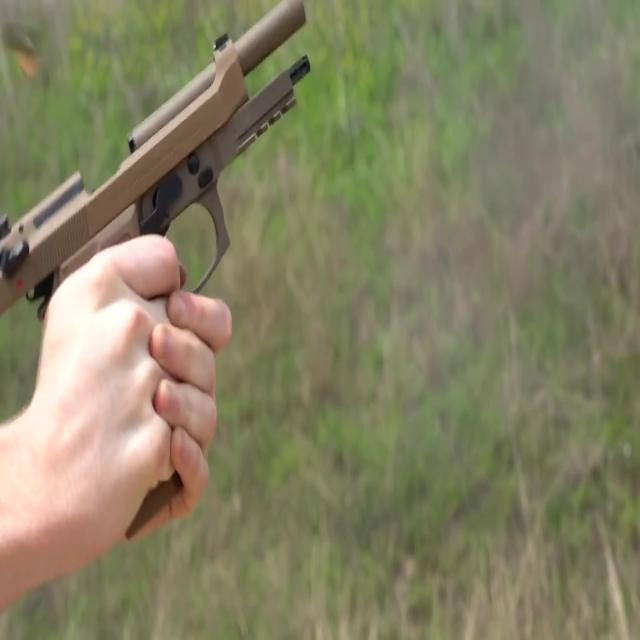Weapon: (1, 1, 358, 538)
